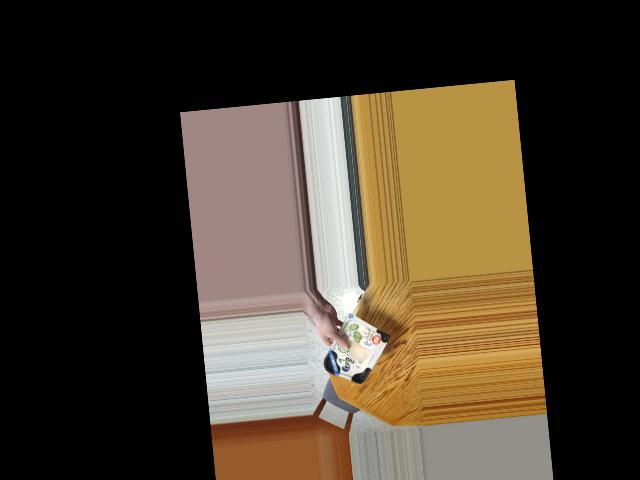cheese: (316, 321, 389, 384)
